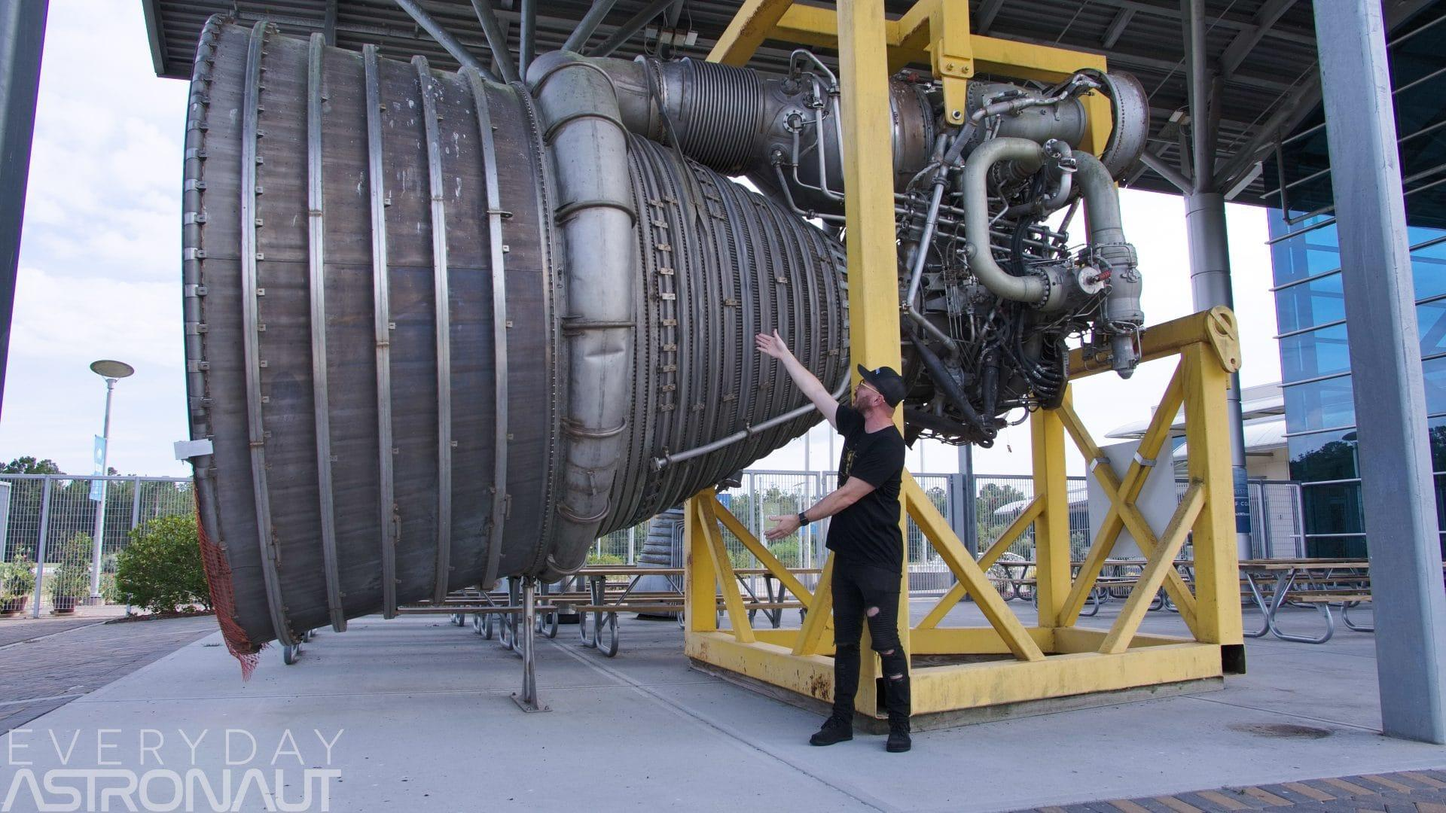thruster: (182, 10, 849, 661)
